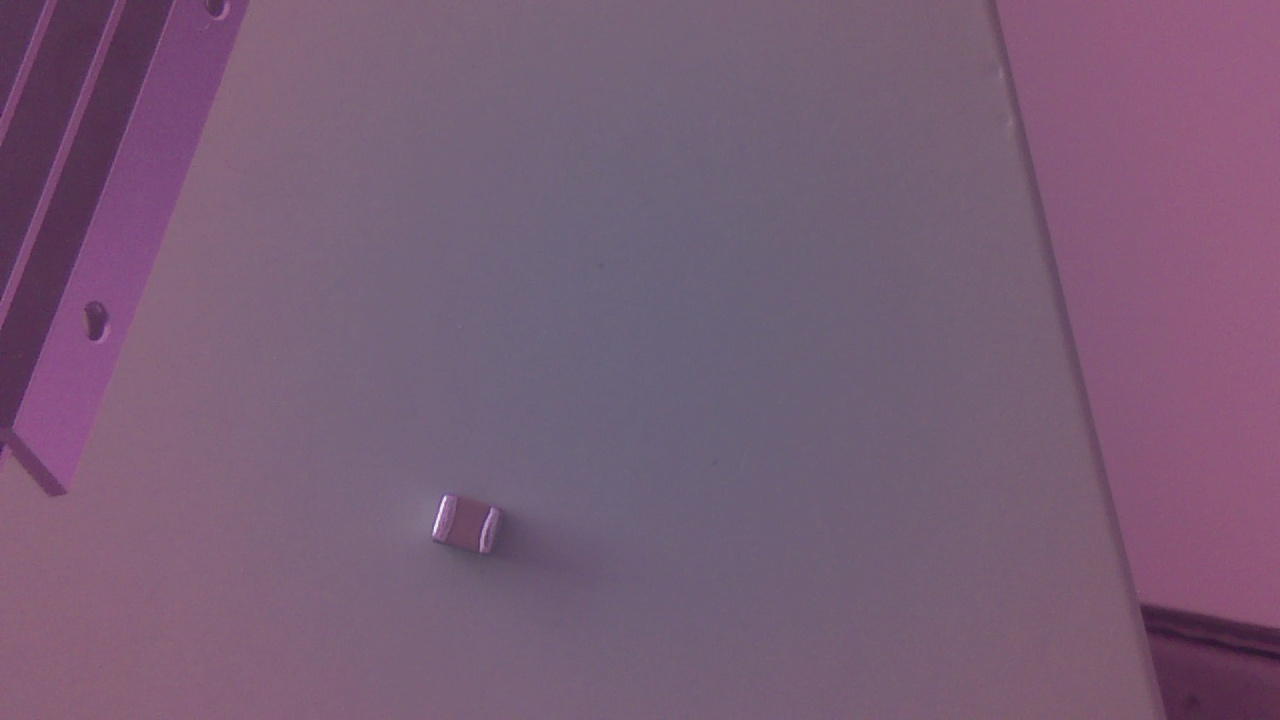Condensator: (430, 492, 513, 566)
